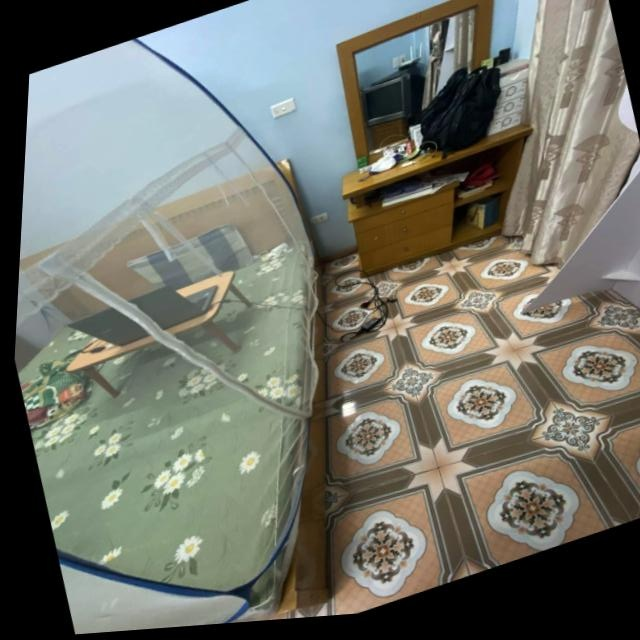outlet: (305, 207, 340, 233)
